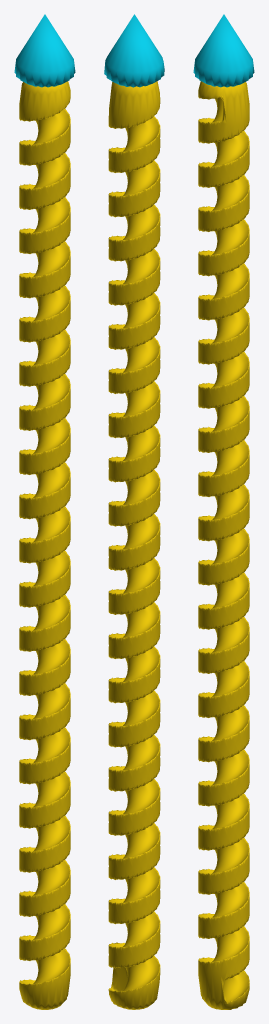
The model's file is Staff_Of_Seas_Final2.fbx.
3 renders of one model, left to right at view 1: azimuth 90°, elevation 25°; view 2: azimuth 150°, elevation 25°; view 3: azimuth 270°, elevation 25°, orthographic.
Parts seen in each view (by area): view 1: polySurface1; view 2: polySurface1; view 3: polySurface1.
Part boxes in pixels (x1,y1,x2,y2): polySurface1: (14, 14, 75, 1009); polySurface1: (104, 14, 164, 1009); polySurface1: (193, 14, 254, 1009).
Bounding box in the file's own units: 0.3666 × 6.55 × 0.3666.
